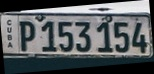character: (56, 19, 74, 52), (56, 20, 74, 52), (95, 21, 113, 53), (112, 20, 130, 52), (74, 20, 92, 51), (131, 21, 148, 53), (19, 20, 35, 52), (40, 20, 56, 52)
